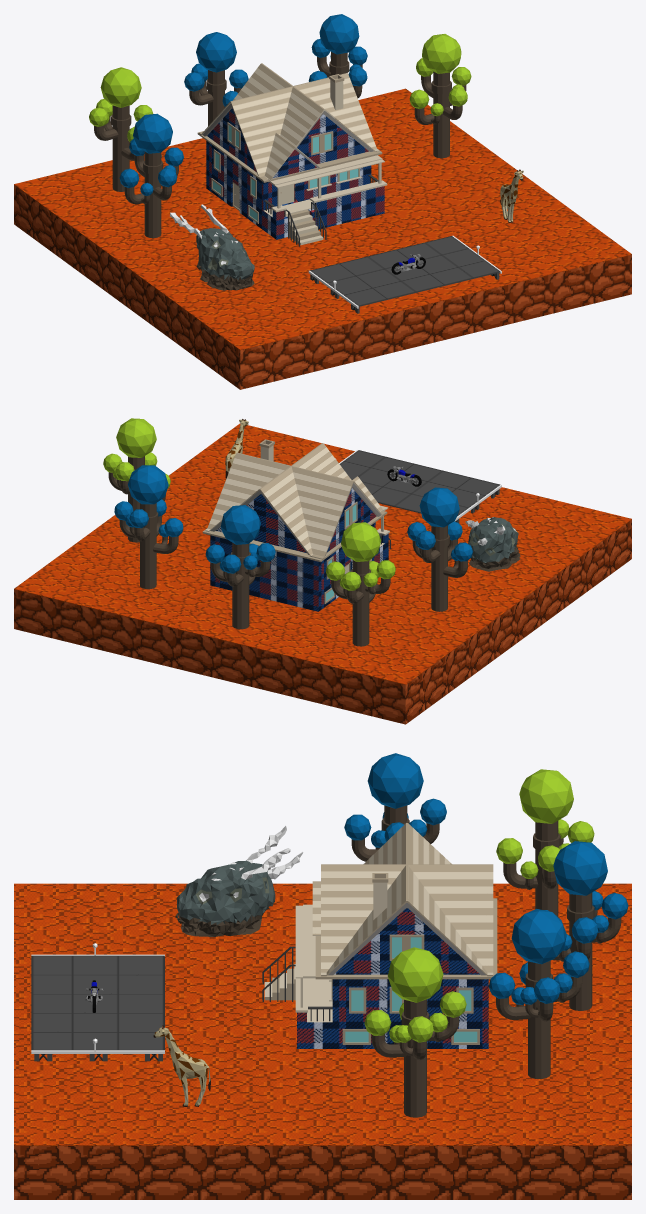
3 views of the same model, one above another, from view 1: azimuth 30°, elevation 25°; view 2: azimuth 150°, elevation 25°; view 3: azimuth 270°, elevation 25° (orthographic). The views are drawn at different scales.
Parts seen in each view (by area): view 1: Cube.001, Cube.171, OBJRANDOM_METEORITE, ANIMAL_JIRAFA; view 2: Cube.001, Cube.171, OBJRANDOM_METEORITE, ANIMAL_JIRAFA; view 3: Cube.001, Cube.171, OBJRANDOM_METEORITE, ANIMAL_JIRAFA.
Boxes of the visible parts, left/top/right/bottom form: Cube.001: left=14, top=14, right=631, bottom=389; Cube.171: left=197, top=63, right=387, bottom=246; OBJRANDOM_METEORITE: left=170, top=204, right=254, bottom=290; ANIMAL_JIRAFA: left=500, top=169, right=523, bottom=222; Cube.001: left=14, top=418, right=631, bottom=724; Cube.171: left=202, top=439, right=390, bottom=611; OBJRANDOM_METEORITE: left=465, top=517, right=520, bottom=571; ANIMAL_JIRAFA: left=225, top=419, right=248, bottom=478; Cube.001: left=14, top=753, right=631, bottom=1199; Cube.171: left=262, top=823, right=497, bottom=1048; OBJRANDOM_METEORITE: left=175, top=826, right=303, bottom=936; ANIMAL_JIRAFA: left=153, top=1025, right=210, bottom=1106.
Bounding box in the file's own units: 4000 × 1672 × 4000.
Materials: 32 (5 with a texture image).
